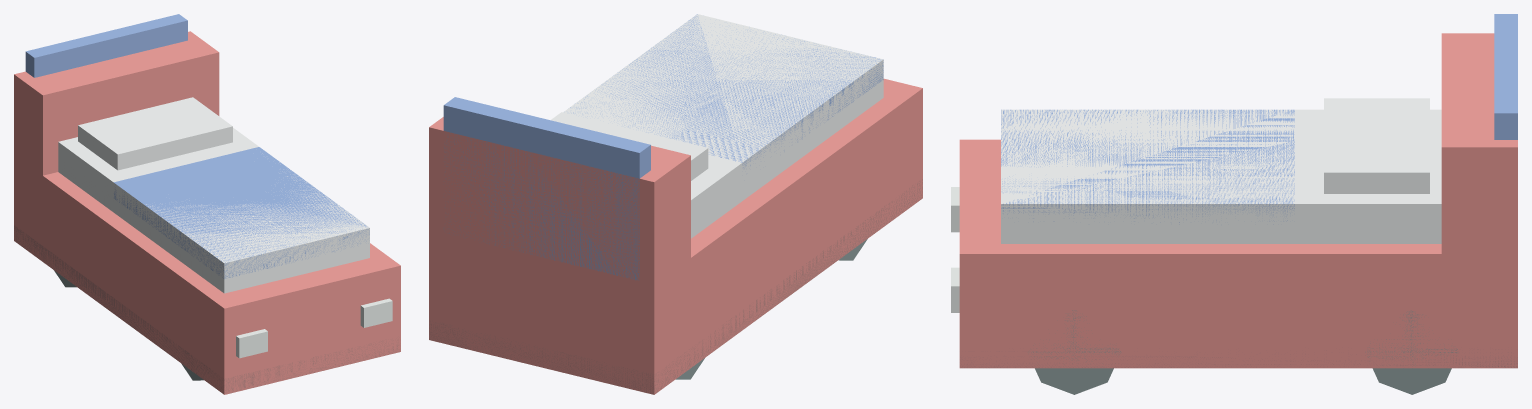
Rendered from kidsBedCar.glb.
3 renders of one model, left to right at view 1: azimuth 30°, elevation 25°; view 2: azimuth 150°, elevation 25°; view 3: azimuth 270°, elevation 25°, orthographic. The views are drawn at different scales.
Visible parts, largest first — view 1: kidsBedCar; view 2: kidsBedCar; view 3: kidsBedCar.
Boxes of the visible parts, bbox=[...] form: kidsBedCar: bbox=[14, 14, 400, 394]; kidsBedCar: bbox=[429, 14, 922, 394]; kidsBedCar: bbox=[951, 14, 1517, 394].
Bounding box in the file's own units: 0.46 × 0.515 × 0.965.
